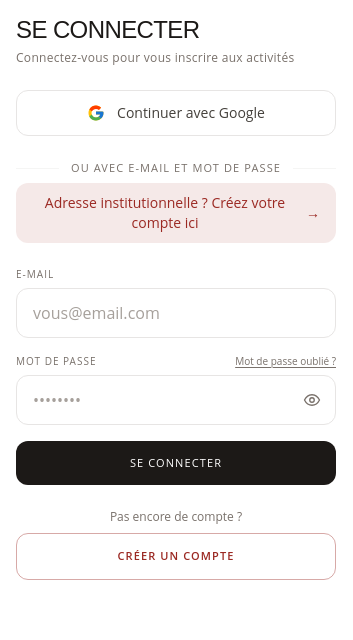
Test: AuthPage — idiomas › /fr/login sale traducido
expect the heading "Se connecter" is shown: met, box [16, 16, 200, 43]
Click the button "Adresse institutionnelle ? Créez votre compte ici →". click: (176, 212)
box: [16, 182, 336, 242]
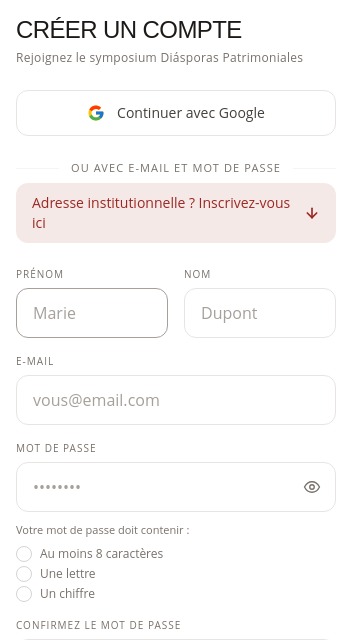
expect the heading "Créer un compte" is shown: met, box [16, 16, 242, 43]
expect the field labelled "Prénom" is shown: met, box [16, 288, 168, 338]
